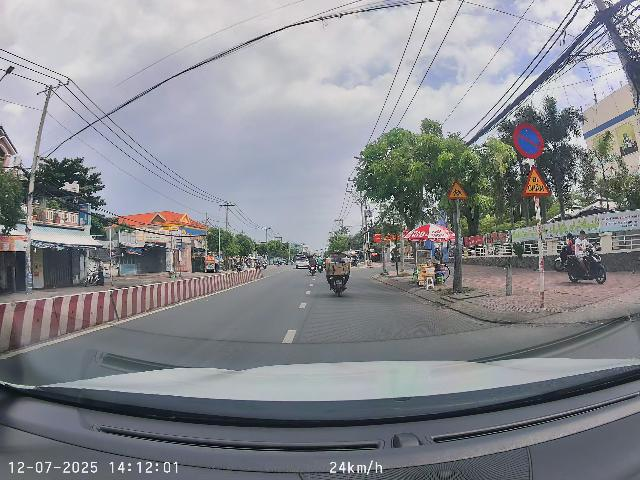131a-cam-do-xe: (513, 123, 543, 159)
225-chu-y-tre-em: (448, 180, 469, 199)
245-di-cham: (523, 165, 550, 196)
